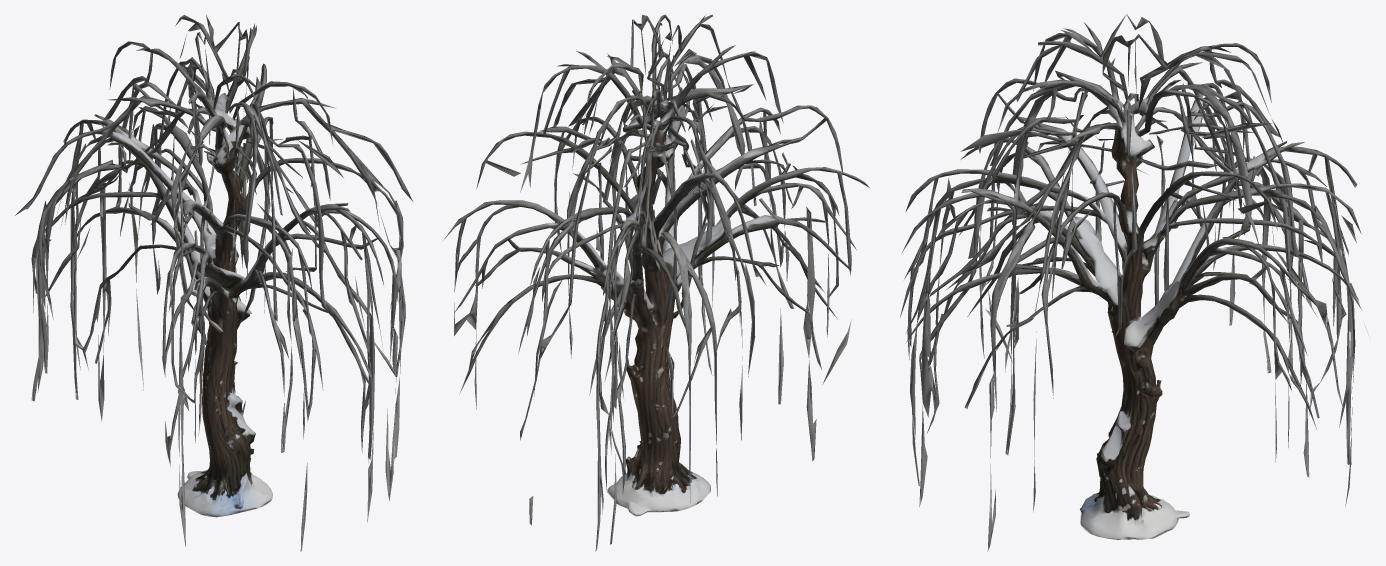
The model's file is tree_willow_bare.glb.
3 views of the same model, side by side, from view 1: azimuth 30°, elevation 25°; view 2: azimuth 150°, elevation 25°; view 3: azimuth 270°, elevation 25° (orthographic). The views are drawn at different scales.
Bounding box in the file's own units: 0.6882 × 1 × 0.8638.
Materials: 1 (1 with a texture image).
